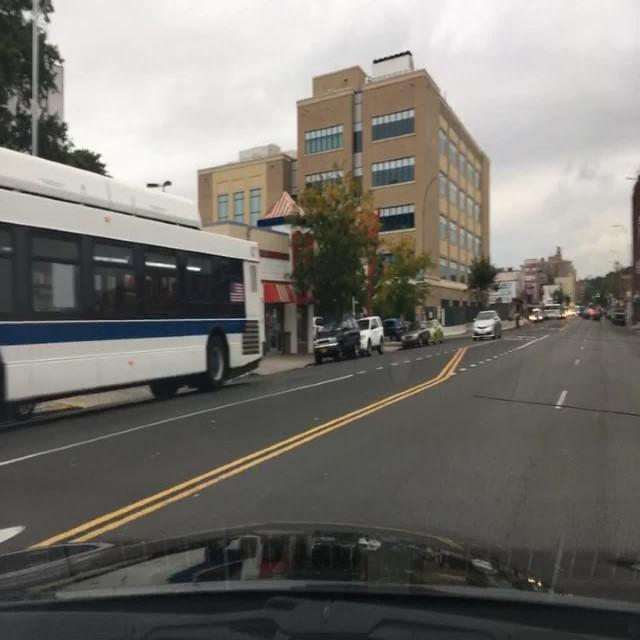normal: (4, 145, 268, 424), (315, 322, 363, 364), (355, 315, 383, 353), (472, 313, 504, 342), (401, 323, 434, 348), (311, 336, 340, 363), (382, 317, 405, 339), (528, 307, 545, 322), (611, 310, 627, 325)
